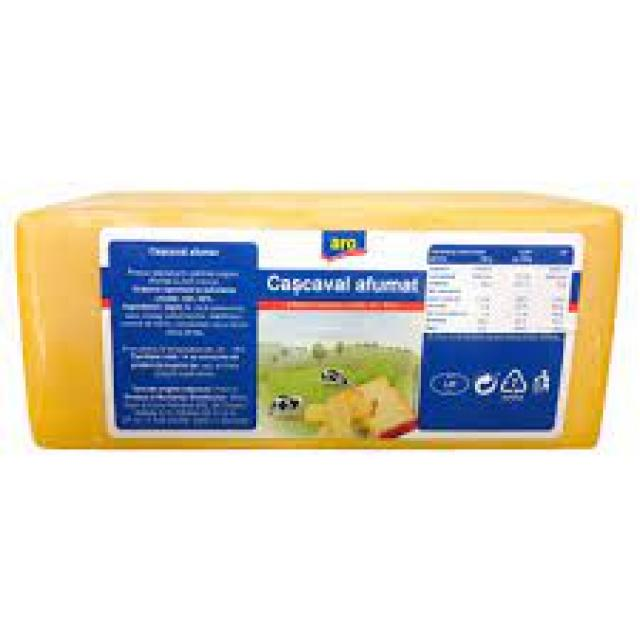cheese: (14, 193, 624, 451)
